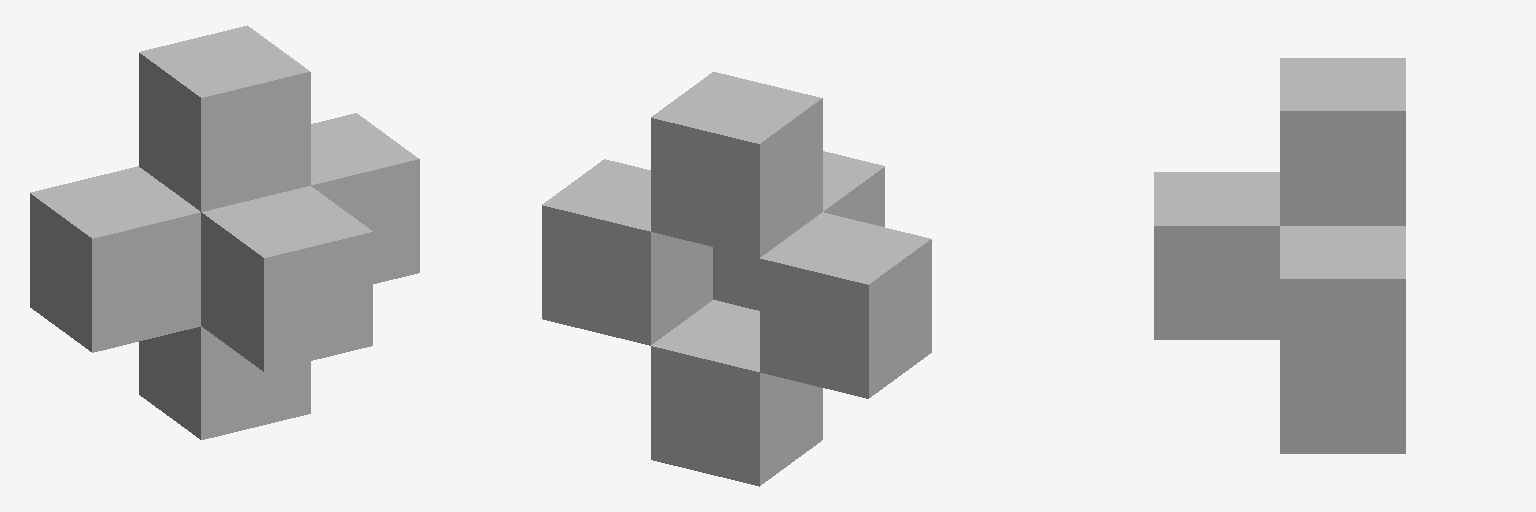
Rendered from big_cube.obj.
3 renders of one model, left to right at view 1: azimuth 30°, elevation 25°; view 2: azimuth 150°, elevation 25°; view 3: azimuth 270°, elevation 25°, orthographic.
Visible parts, largest first — view 1: Cube.002; view 2: Cube.002; view 3: Cube.002.
Boxes of the visible parts, <box> form: Cube.002: <box>30,25,419,439</box>; Cube.002: <box>542,72,931,486</box>; Cube.002: <box>1154,58,1405,453</box>.
Bounding box in the file's own units: 12 × 12 × 8.